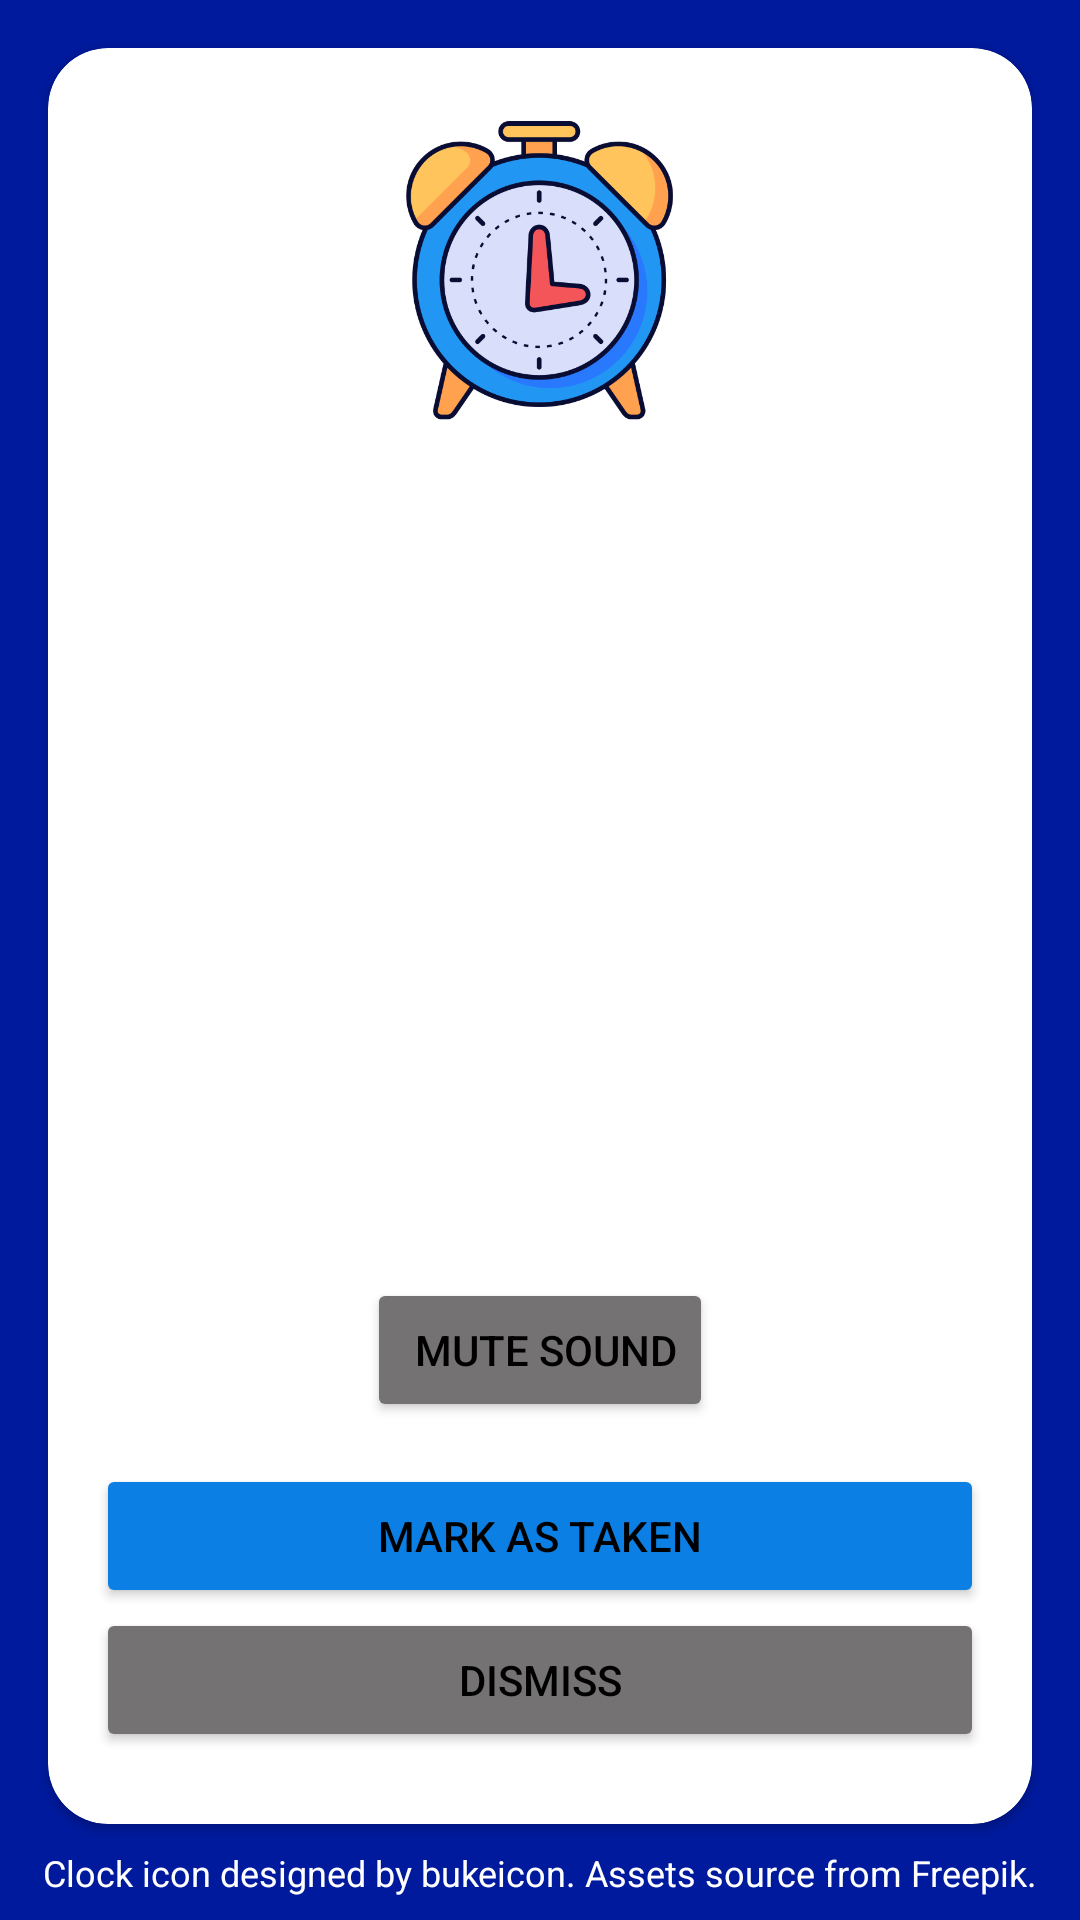

Point at icon controls on the screen. Image size 1080 x 1920, points as [x,y].
Alarm: [539,270]
